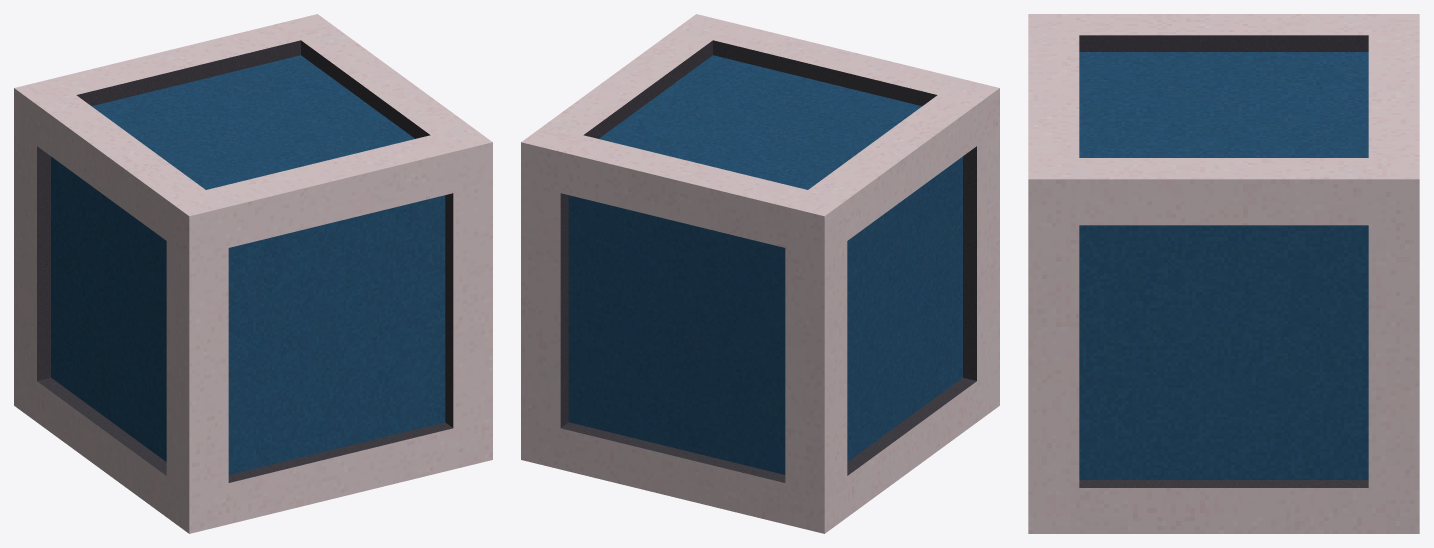
The model's file is cube_1x1_extended_(1).gltf.
3 renders of one model, left to right at view 1: azimuth 30°, elevation 25°; view 2: azimuth 150°, elevation 25°; view 3: azimuth 270°, elevation 25°, orthographic. The views are drawn at different scales.
Visible parts, largest first — view 1: Cube_1x1_extended (1); view 2: Cube_1x1_extended (1); view 3: Cube_1x1_extended (1).
Boxes of the visible parts, x1=… form: Cube_1x1_extended (1): x1=14, y1=14, x2=492, y2=533; Cube_1x1_extended (1): x1=521, y1=14, x2=999, y2=533; Cube_1x1_extended (1): x1=1028, y1=14, x2=1419, y2=533.
Bounding box in the file's own units: 2 × 2 × 2.
Materials: 1 (1 with a texture image).
